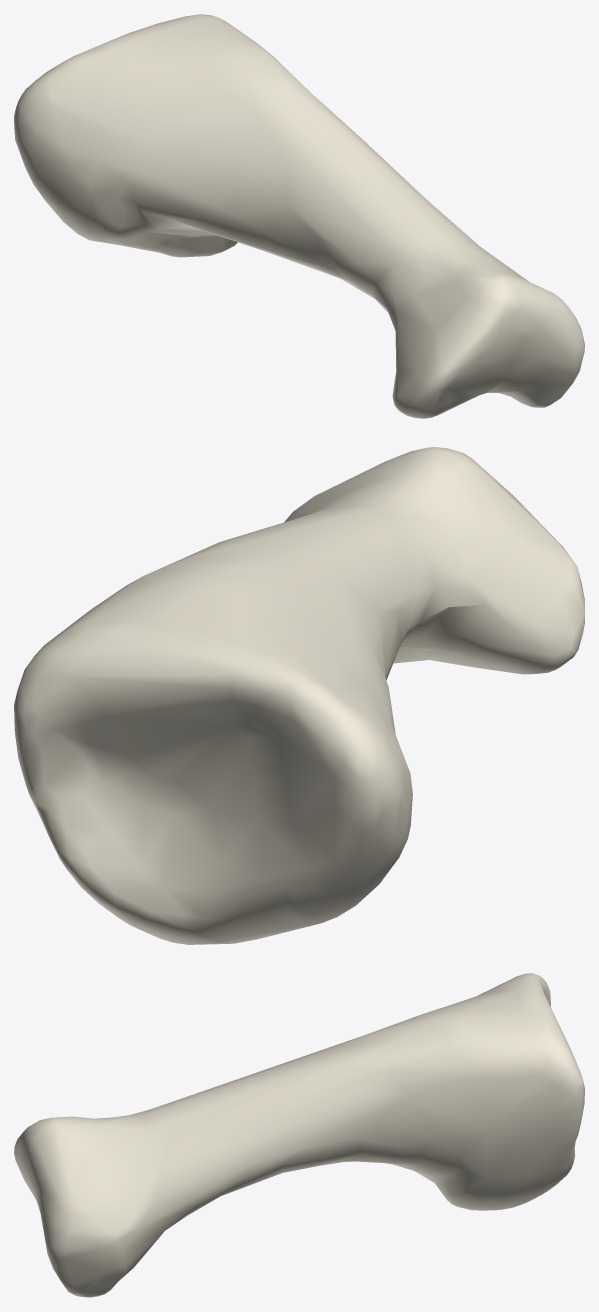
The model's file is fma32635.glb.
3 renders of one model, top to bottom at view 1: azimuth 30°, elevation 25°; view 2: azimuth 150°, elevation 25°; view 3: azimuth 270°, elevation 25°, orthographic. The views are drawn at different scales.
Visible parts, largest first — view 1: FMA32635; view 2: FMA32635; view 3: FMA32635.
Boxes of the visible parts, x1,y1,x2,y2 form: FMA32635: (14,14,584,418); FMA32635: (14,447,584,944); FMA32635: (14,973,584,1297).
Bounding box in the file's own units: 0.0174 × 0.0125 × 0.0285.
